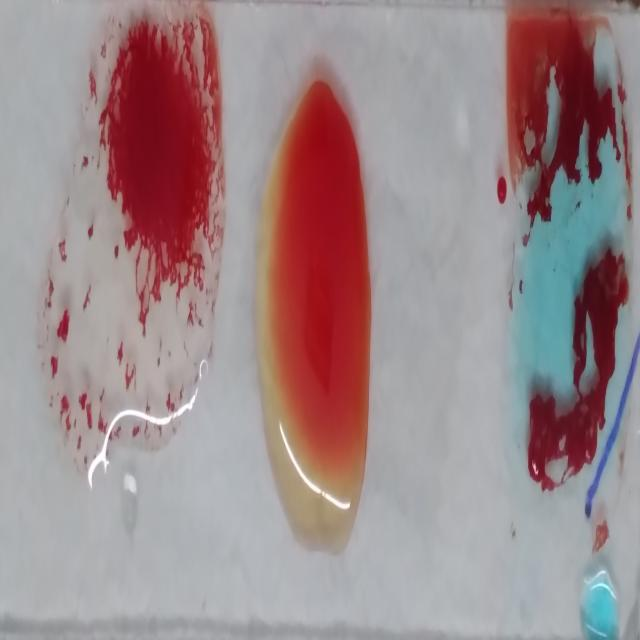A: (500, 28, 630, 503)
D: (74, 24, 222, 456)
